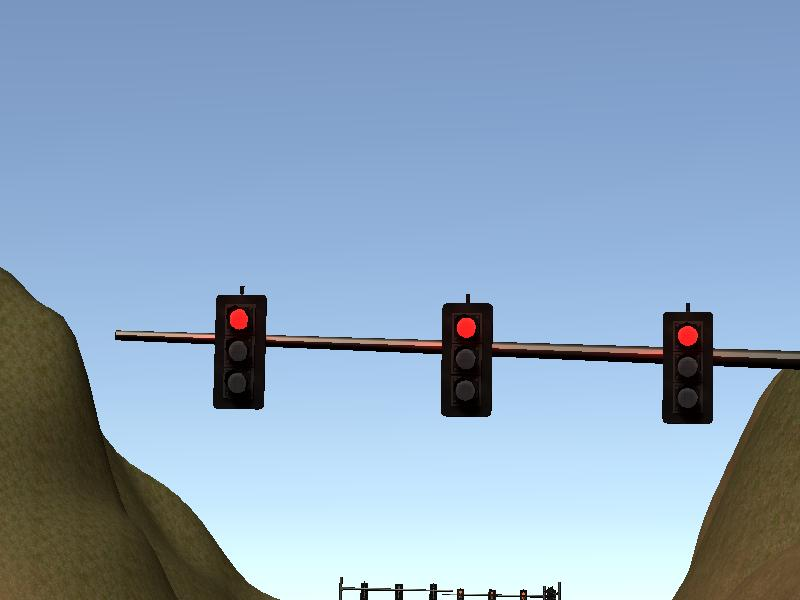Red: (442, 303, 492, 416), (663, 311, 712, 424), (217, 295, 263, 409)
